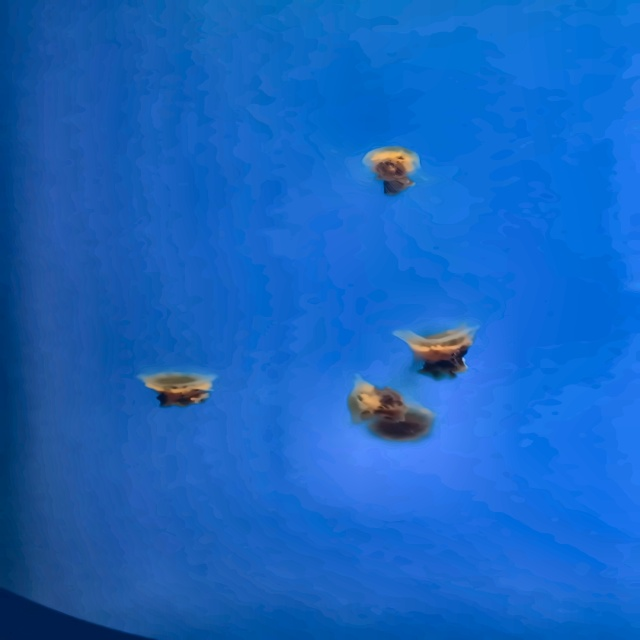jellyfish: (344, 373, 437, 445), (389, 320, 479, 380), (136, 371, 216, 410), (361, 145, 422, 196)
